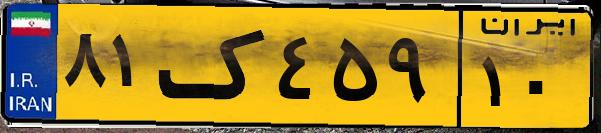0: (525, 38, 570, 115)
1: (475, 38, 525, 113), (110, 28, 158, 98)
4: (270, 28, 330, 110)
5: (330, 28, 385, 110)
8: (57, 26, 110, 100)
9: (385, 28, 445, 110)
ک: (158, 12, 270, 120)
